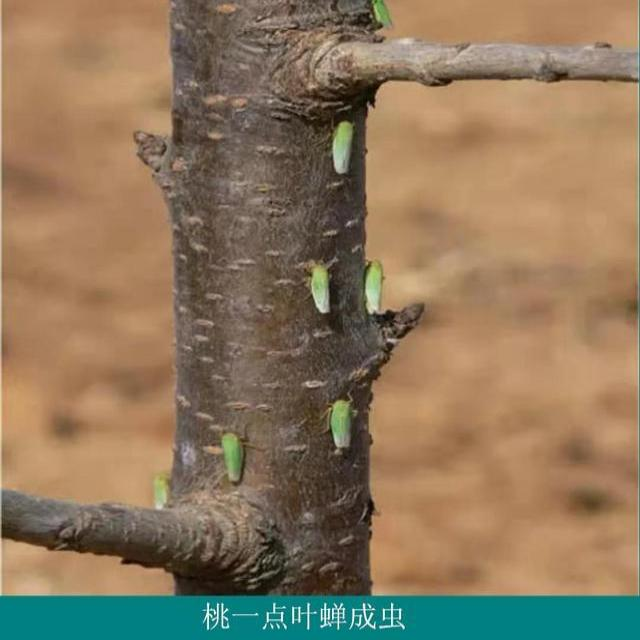Yechan: (321, 392, 361, 456), (300, 254, 337, 322), (214, 424, 251, 488), (328, 113, 362, 182), (359, 257, 388, 321)
